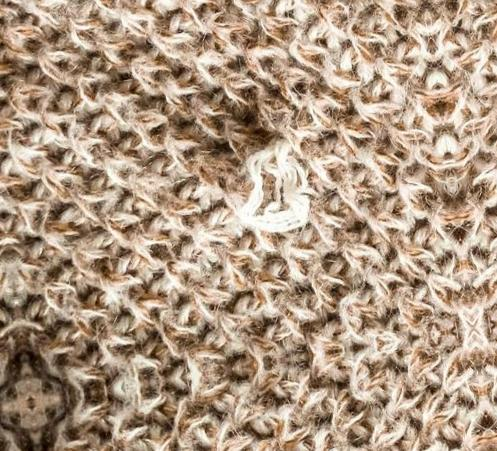snag: (216, 131, 336, 253)
